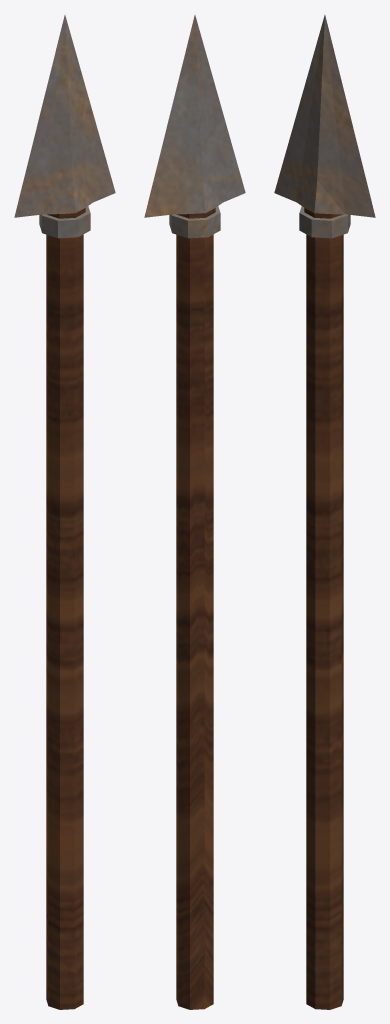
File: spear.fbx
The picture shows the model from 3 angles, left to right: view 1: azimuth 30°, elevation 25°; view 2: azimuth 210°, elevation 25°; view 3: azimuth 330°, elevation 25°; orthographic projection.
Visible parts, largest first — view 1: Cylinder; view 2: Cylinder; view 3: Cylinder.
Part boxes in pixels (x1,y1,x2,y2): Cylinder: (14, 15, 115, 1009); Cylinder: (144, 15, 245, 1009); Cylinder: (274, 15, 375, 1009).
Bounding box in the file's own units: 133 × 1240 × 60.11.
2 materials, 2 textured.
